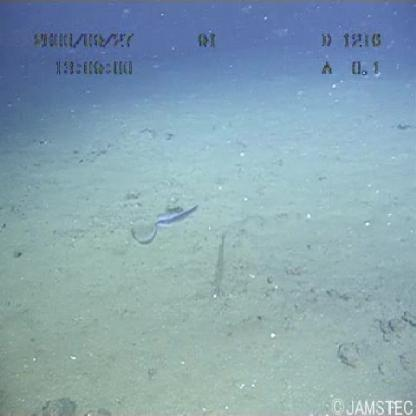Bio: (126, 201, 202, 250)
